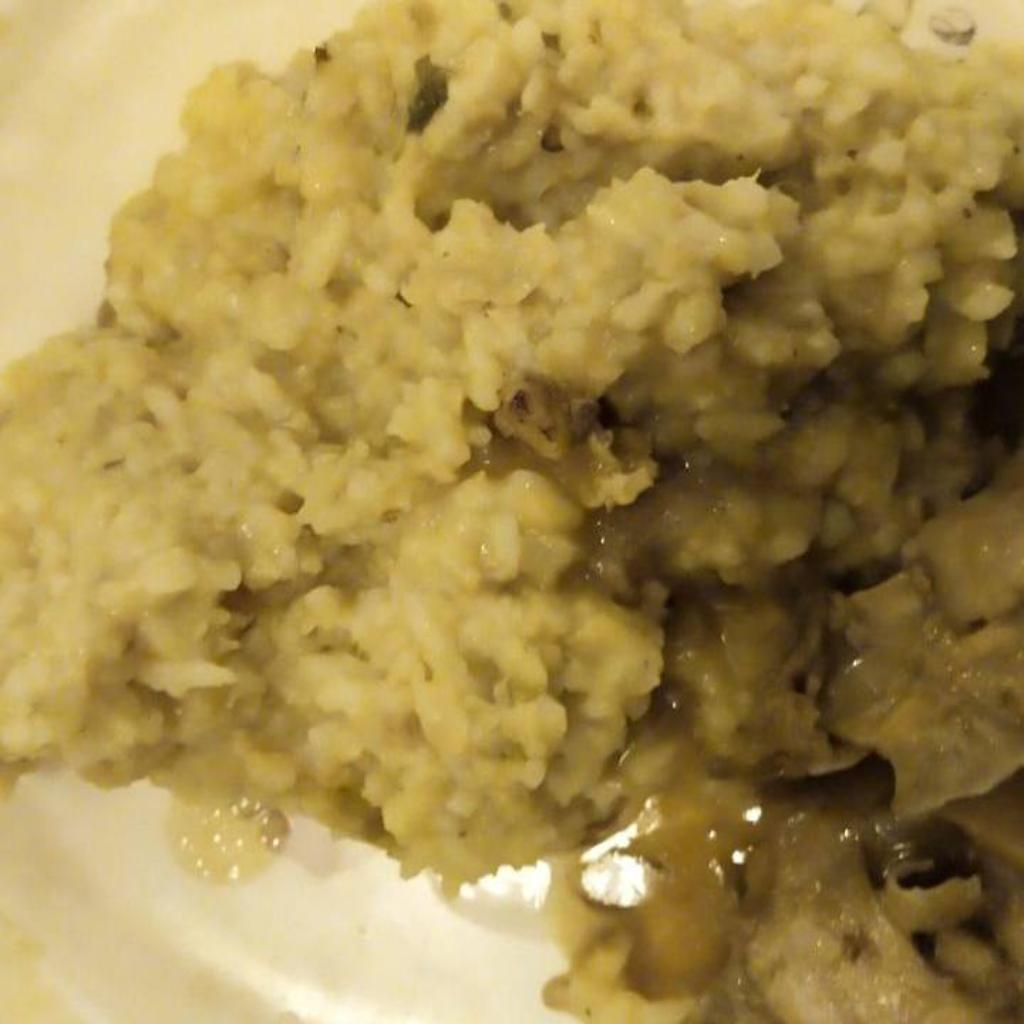chicken: (603, 435, 1023, 1023)
khichuri: (9, 7, 1020, 903)
